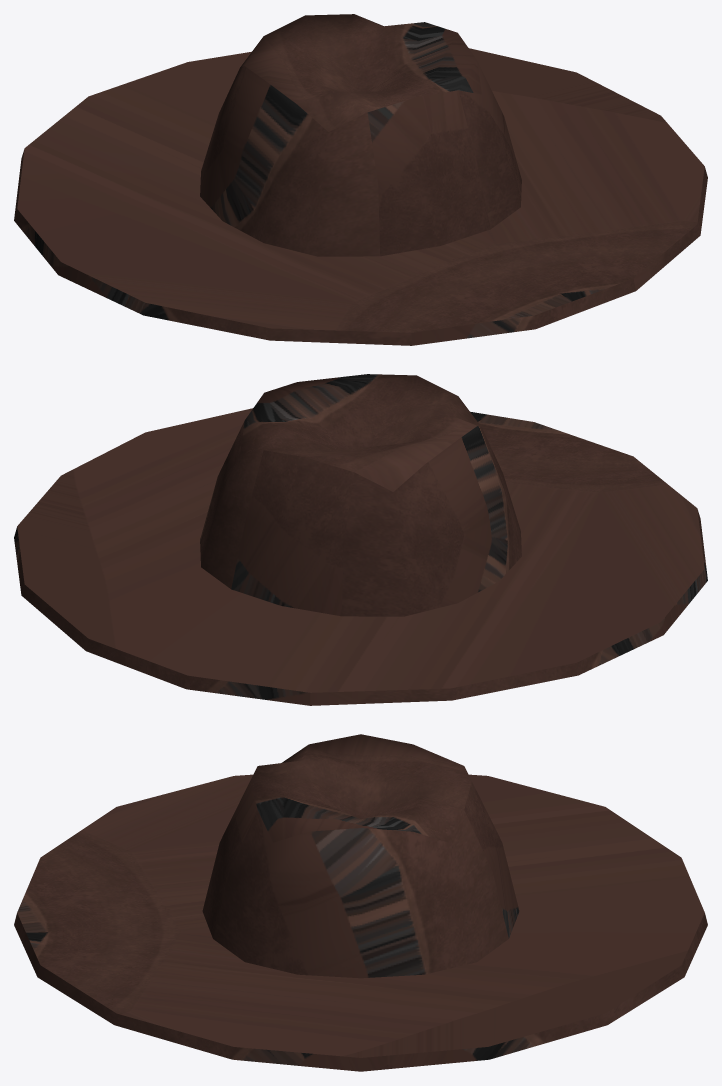
Rendered from Cowboy Hat 3D Model (Textured).fbx.
The picture shows the model from 3 angles, top to bottom: view 1: azimuth 30°, elevation 25°; view 2: azimuth 150°, elevation 25°; view 3: azimuth 270°, elevation 25°; orthographic projection.
Parts seen in each view (by area): view 1: Cowboy_Hat; view 2: Cowboy_Hat; view 3: Cowboy_Hat.
Boxes of the visible parts, <box> form: Cowboy_Hat: <box>14,14,707,345</box>; Cowboy_Hat: <box>14,374,707,705</box>; Cowboy_Hat: <box>14,734,707,1071</box>.
Size of the model in its own units: 2.01 by 0.4607 by 2.01.
